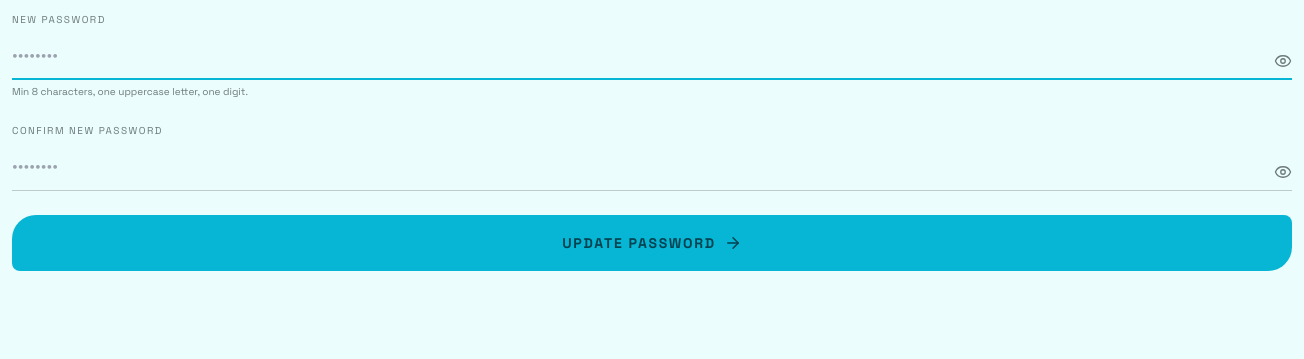
Test: ResetPasswordForm — API error state › shows API error message on failure
Type "NewPassword1" into the password field labelled "New password".
click(652, 56); type("NewPassword1")  # box [12,31,1292,80]
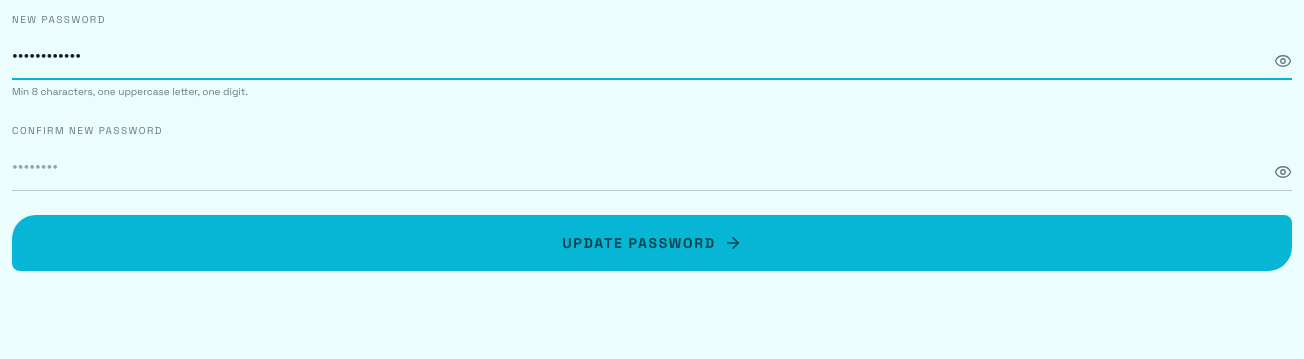
Type "NewPassword1" into the password field labelled "Confirm new password".
click(652, 166); type("NewPassword1")  # box [12,142,1292,191]
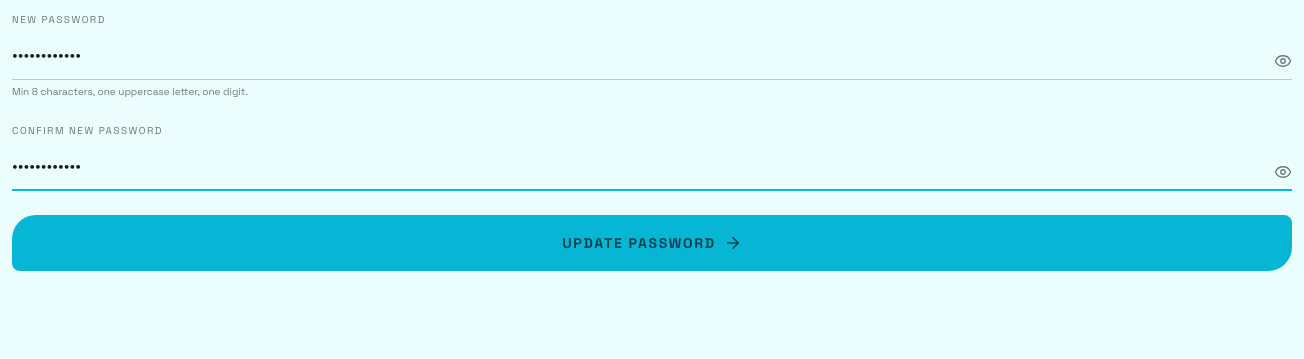
Click the button "Update password".
click(652, 243)  # box [12,215,1292,271]
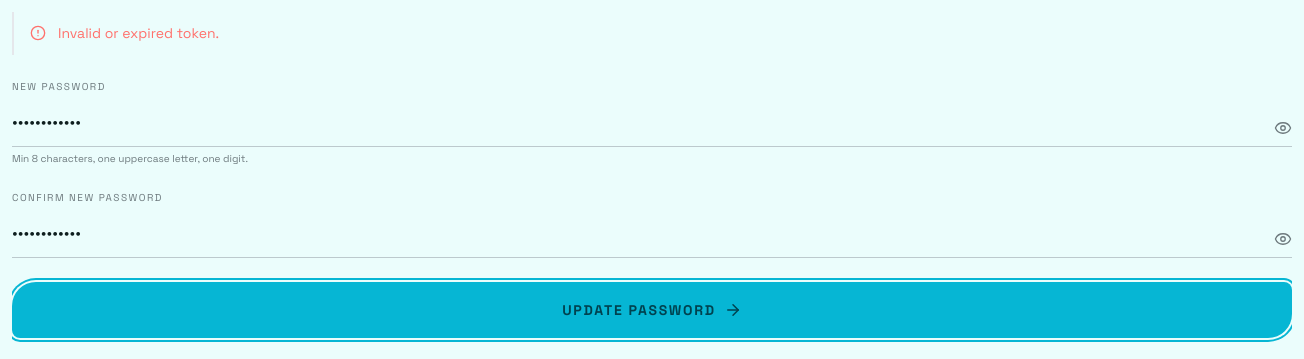
Result: the text "Invalid or expired token." is shown at [58,24,219,43]
